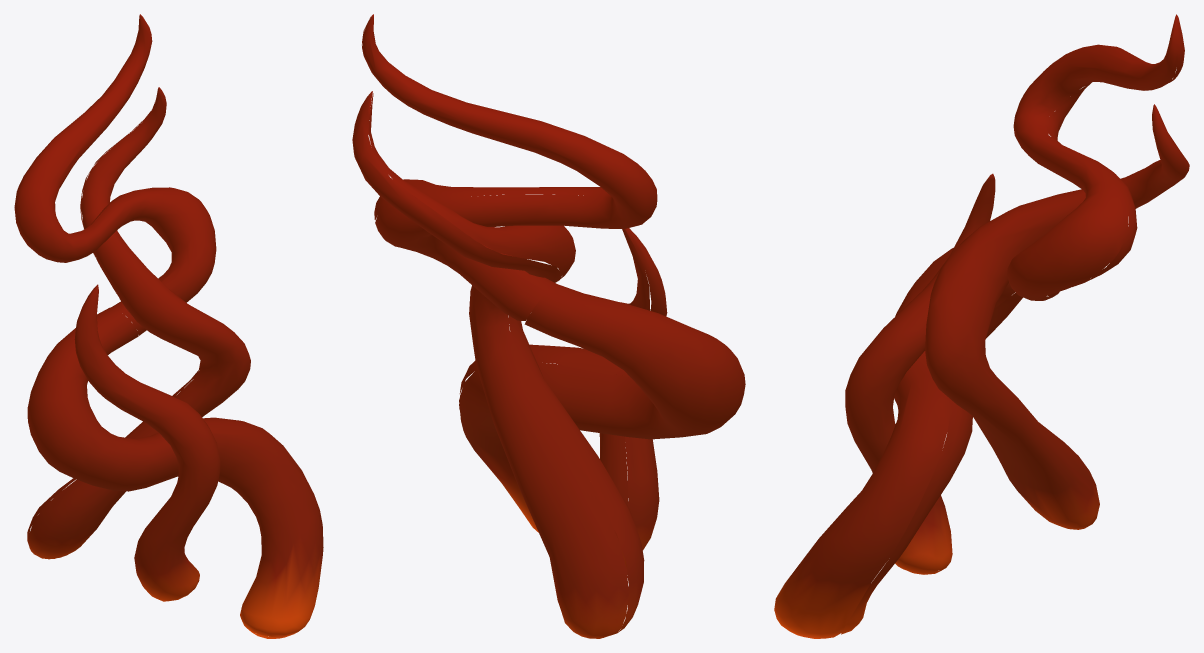
File: tb_tentacle_a.glb
The picture shows the model from 3 angles, left to right: view 1: azimuth 30°, elevation 25°; view 2: azimuth 150°, elevation 25°; view 3: azimuth 270°, elevation 25°; orthographic projection. The views are drawn at different scales.
Parts seen in each view (by area): view 1: geometry_0; view 2: geometry_0; view 3: geometry_0.
Boxes of the visible parts, x1,y1,x2,y2 form: geometry_0: [14, 14, 323, 638]; geometry_0: [352, 14, 745, 638]; geometry_0: [774, 14, 1189, 638].
Size of the model in its own units: 18.92 by 37.8 by 22.69.
